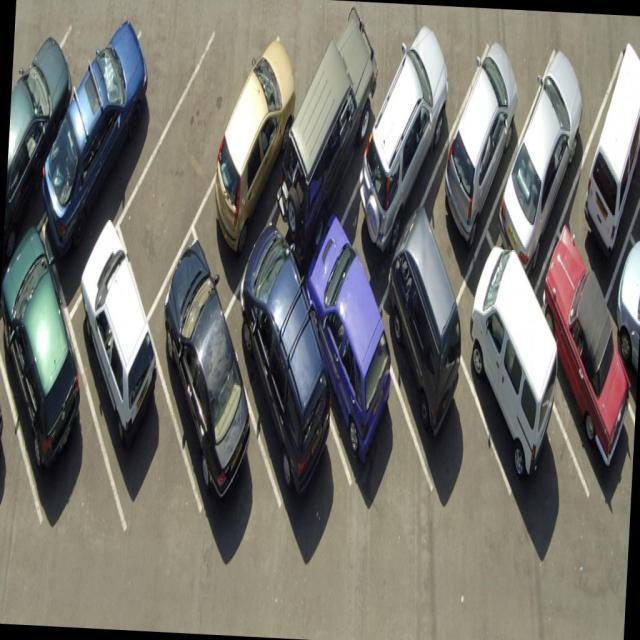space-empty: (123, 52, 242, 263)
space-occupied: (435, 252, 572, 524), (135, 243, 266, 522), (519, 239, 634, 538), (218, 248, 344, 513), (0, 252, 109, 540), (291, 252, 406, 516), (39, 19, 180, 220), (361, 256, 476, 501), (60, 272, 175, 507), (346, 71, 453, 274), (199, 52, 300, 255), (280, 43, 375, 256), (487, 64, 585, 263), (4, 27, 87, 245), (429, 61, 516, 241), (569, 32, 640, 243), (605, 248, 640, 508)
